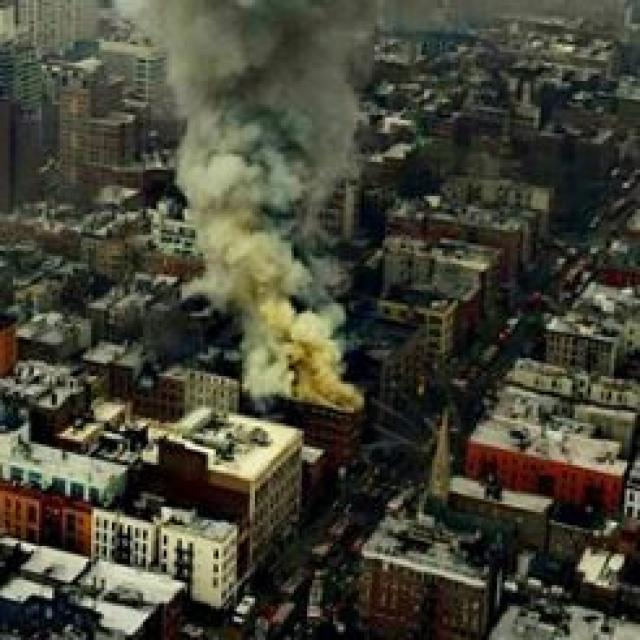Smoke: (152, 6, 366, 412)
